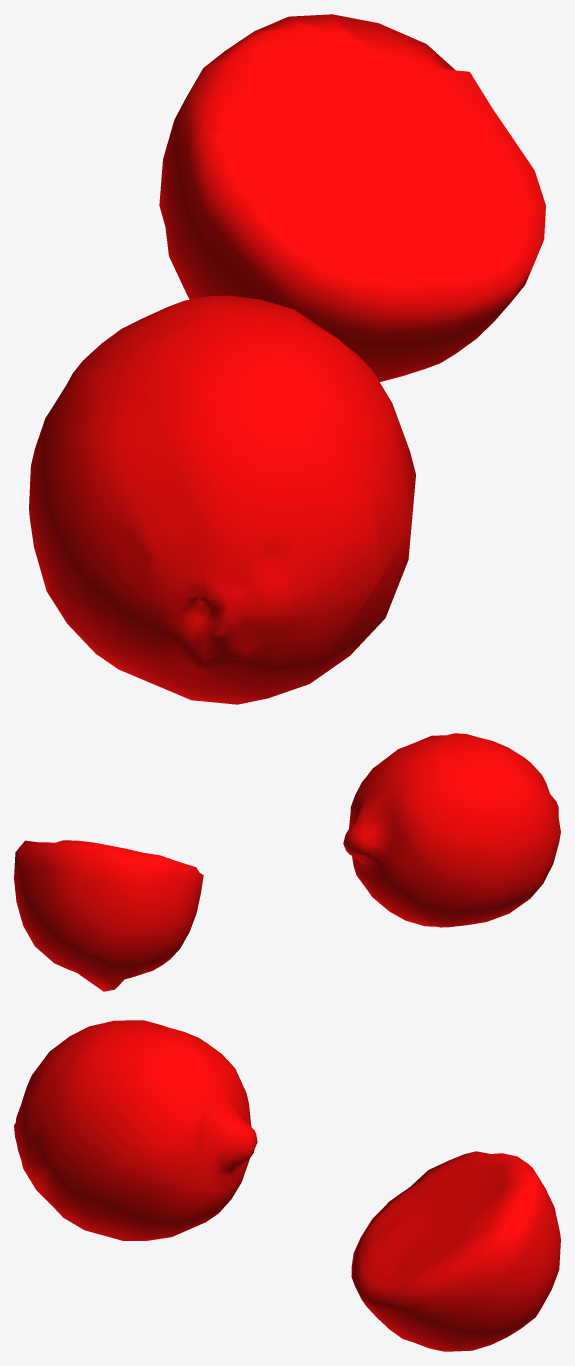
The model's file is limes.FBX.
The picture shows the model from 3 angles, top to bottom: view 1: azimuth 30°, elevation 25°; view 2: azimuth 150°, elevation 25°; view 3: azimuth 270°, elevation 25°; orthographic projection. The views are drawn at different scales.
Parts seen in each view (by area): view 1: lime1, lime2; view 2: lime1, lime2; view 3: lime1, lime2.
Boxes of the visible parts, bbox=[...] form: lime1: bbox=[29, 295, 415, 704]; lime2: bbox=[159, 14, 545, 381]; lime1: bbox=[343, 733, 560, 927]; lime2: bbox=[14, 840, 203, 991]; lime1: bbox=[14, 1020, 257, 1240]; lime2: bbox=[351, 1151, 560, 1351].
Bounding box in the file's own units: 0.1156 × 0.0513 × 0.1284.
